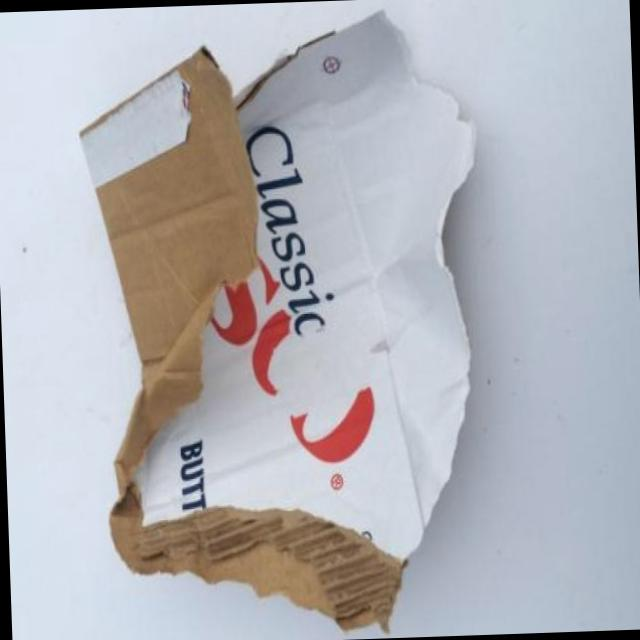cardboard paper: (78, 10, 471, 626)
